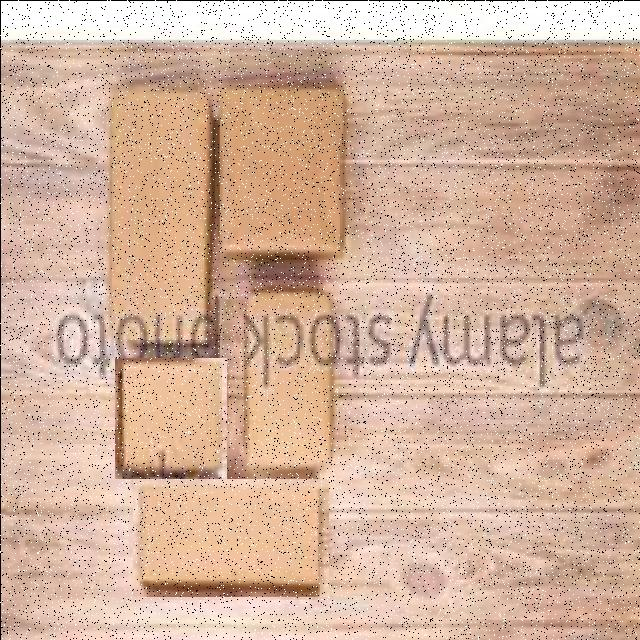normal: (215, 77, 348, 260), (132, 478, 328, 596), (114, 357, 226, 478)
